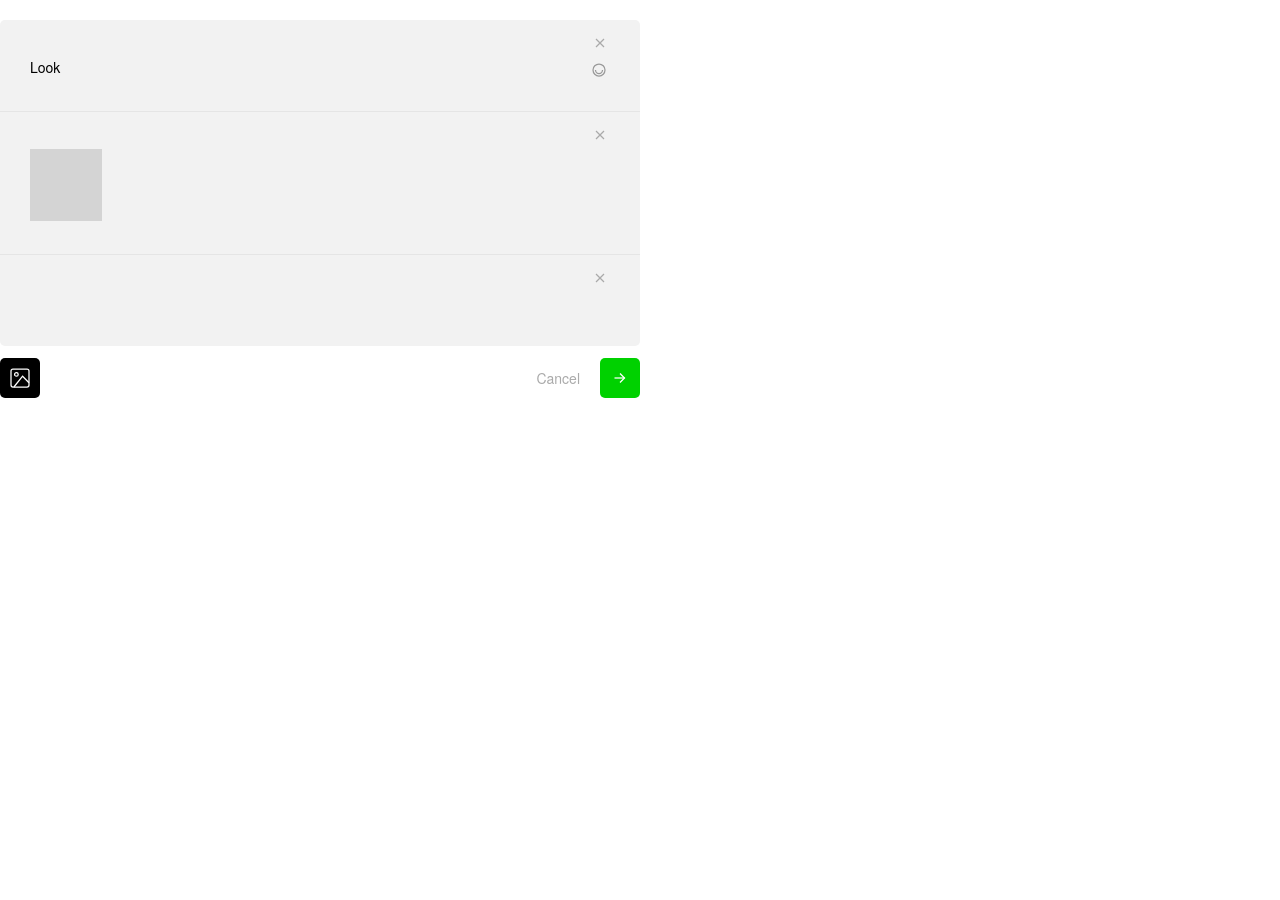
Test case: CommentEditForm › removes an existing picture after the confirmation
Later steps or results of the test are not shown.
Click the 2nd button named "Remove": {"x": 600, "y": 134} [590, 123, 610, 146]
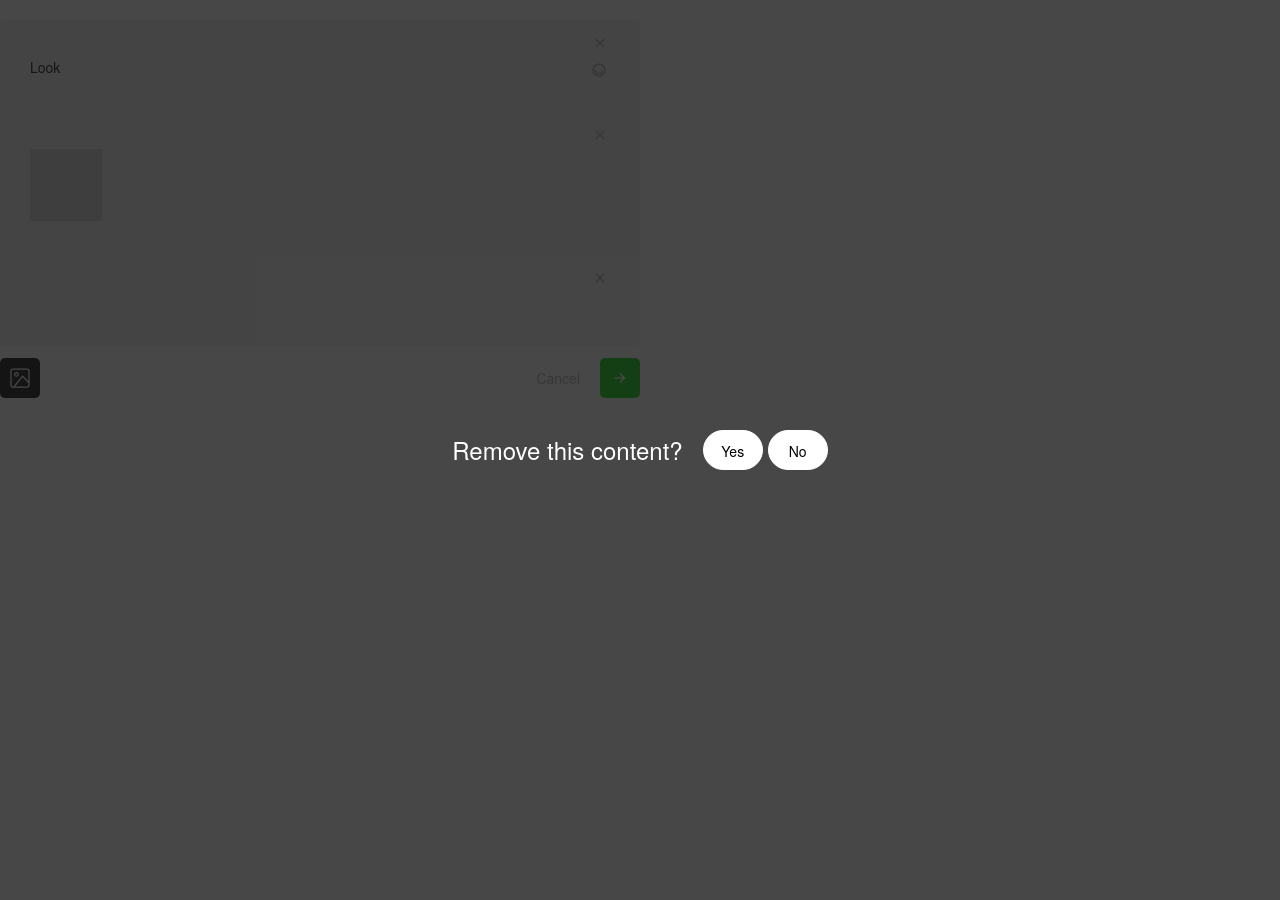
Click the button "Yes": {"x": 733, "y": 450} [703, 430, 763, 470]
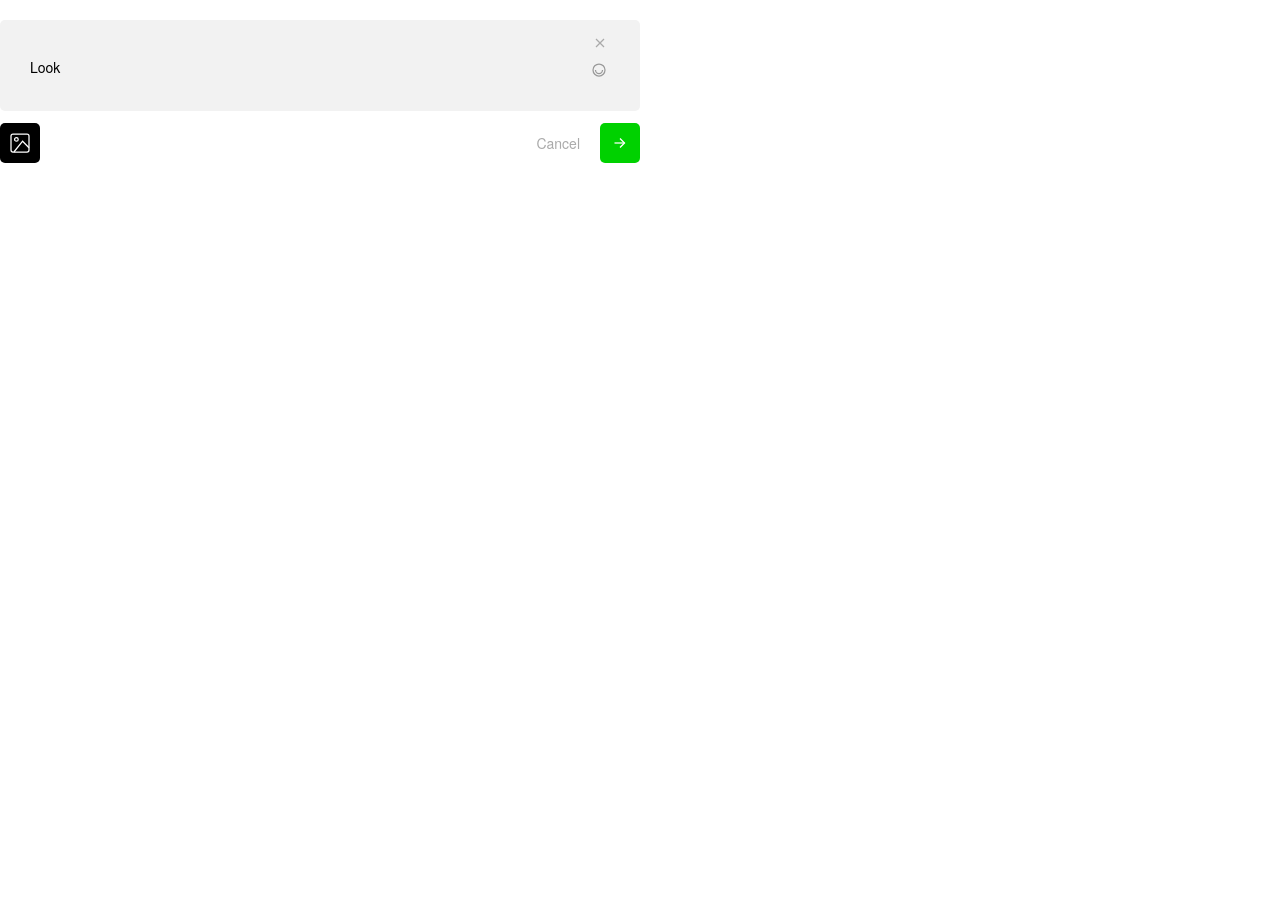
Check: the picture is gone
